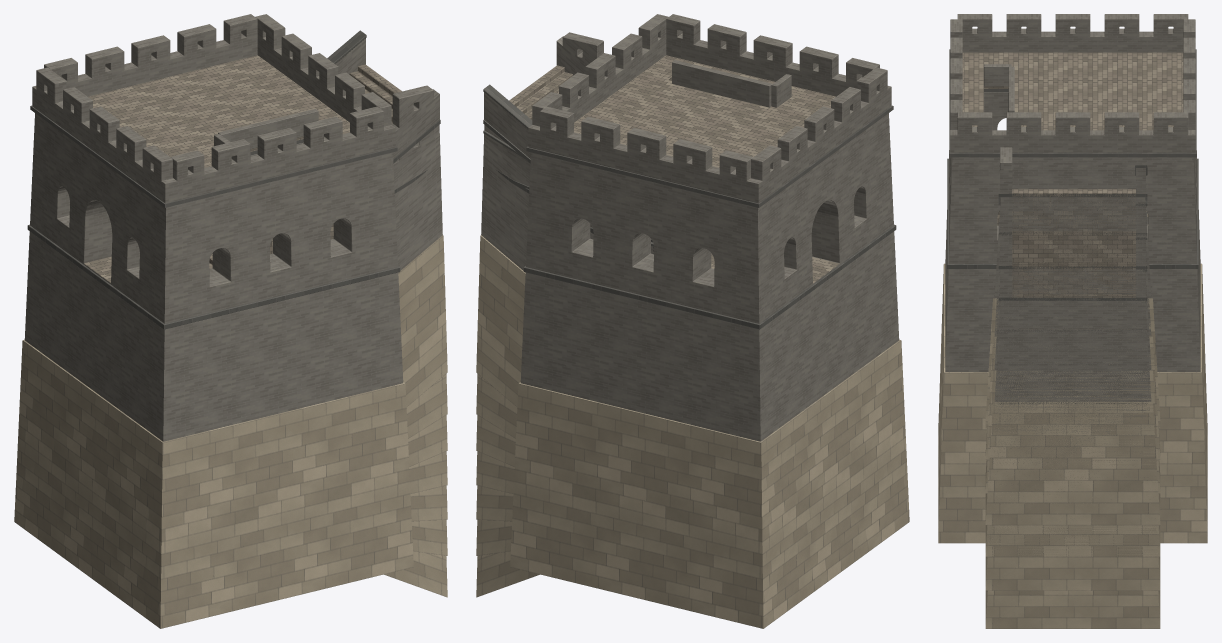
The model's file is great-wall-kit.glb.
3 views of the same model, side by side, from view 1: azimuth 30°, elevation 25°; view 2: azimuth 150°, elevation 25°; view 3: azimuth 270°, elevation 25° (orthographic). The views are drawn at different scales.
Visible parts, largest first — view 1: GW_Tower_Straight, GW_Wall_Slope30, GW_Wall_Slope20, GW_Wall_SlopeDown30, GW_Wall_Slope10, GW_Wall_Straight, GW_Wall_SlopeDown20, GW_Wall_SlopeDown10; view 2: GW_Tower_Straight, GW_Wall_Slope30, GW_Tower_Corner, GW_Wall_Slope20, GW_Wall_SlopeDown30, GW_Wall_Slope10, GW_Wall_Straight, GW_Wall_SlopeDown20, GW_Wall_SlopeDown10; view 3: GW_Tower_Straight, GW_Wall_Straight, GW_Wall_Slope10, GW_Wall_Slope30, GW_Wall_SlopeDown20, GW_Wall_Slope20, GW_Wall_SlopeDown10, GW_Tower_Corner, GW_Wall_SlopeDown30.
Part boxes in pixels (x1,y1,x2,y2): GW_Tower_Straight: (14,14,413,628); GW_Wall_Slope30: (327,30,447,406); GW_Wall_Slope20: (393,129,447,438); GW_Wall_SlopeDown30: (384,551,447,597); GW_Wall_Slope10: (399,167,447,466); GW_Wall_Straight: (409,451,447,493); GW_Wall_SlopeDown20: (411,519,447,555); GW_Wall_SlopeDown10: (410,485,447,521); GW_Tower_Straight: (510,14,909,628); GW_Wall_Slope30: (476,32,603,406); GW_Tower_Corner: (538,154,759,440); GW_Wall_Slope20: (476,130,593,438); GW_Wall_SlopeDown30: (476,253,653,597); GW_Wall_Slope10: (476,177,652,466); GW_Wall_Straight: (476,227,651,493); GW_Wall_SlopeDown20: (476,249,653,555); GW_Wall_SlopeDown10: (476,246,653,521); GW_Tower_Straight: (938,14,1207,543); GW_Wall_Straight: (985,269,1160,525); GW_Wall_Slope10: (985,212,1160,493); GW_Wall_Slope30: (985,147,1160,428); GW_Wall_SlopeDown20: (985,340,1160,590); GW_Wall_Slope20: (985,198,1160,459); GW_Wall_SlopeDown10: (985,301,1160,556); GW_Tower_Corner: (945,157,1200,371); GW_Wall_SlopeDown30: (985,373,1160,628).
Bounding box in the file's own units: 13.44 × 21.37 × 10.88.
Materials: 4 (4 with a texture image).
